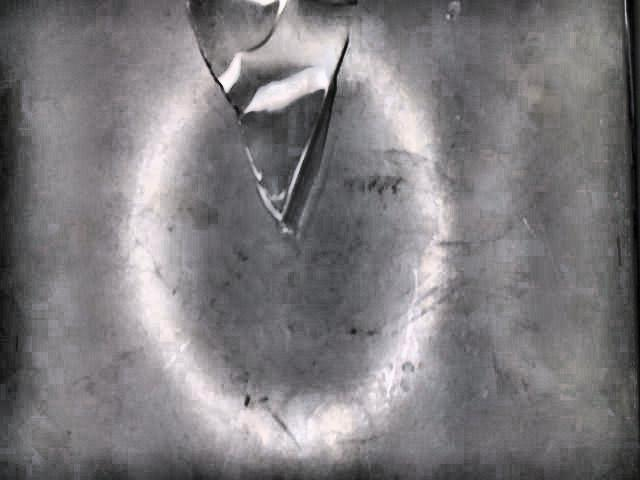Plastic: (187, 0, 356, 241)
